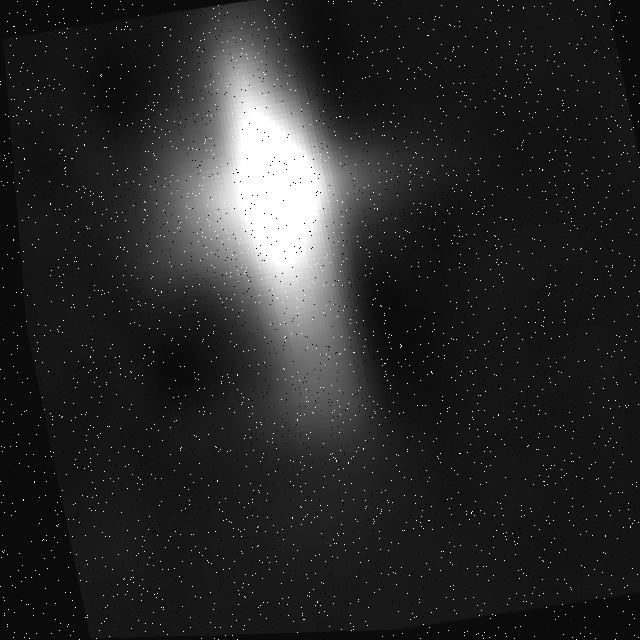person: (104, 1, 426, 477)
